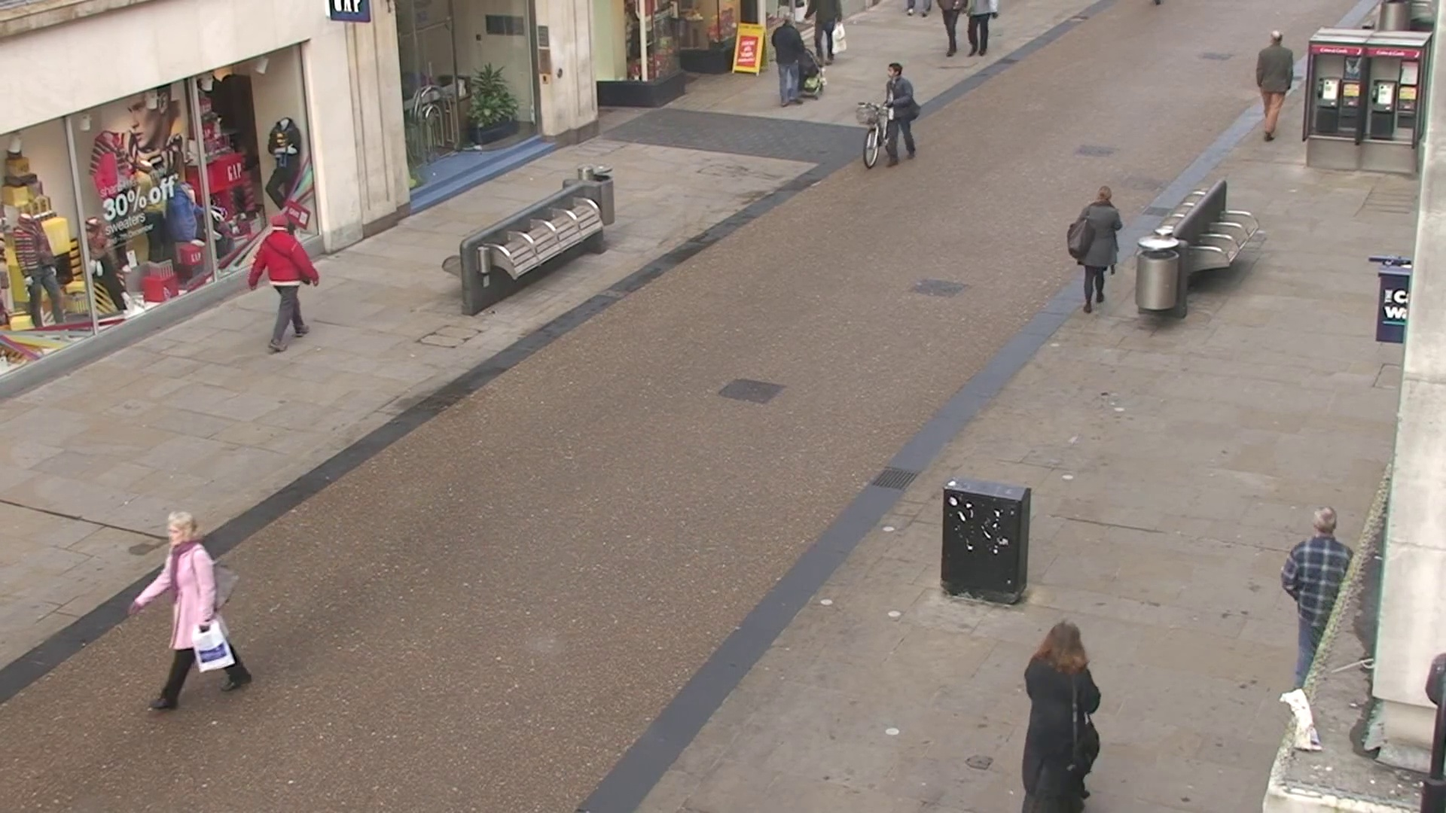person: (132, 510, 243, 713), (1278, 507, 1353, 751), (1020, 621, 1104, 813), (250, 205, 321, 352), (1066, 187, 1124, 313), (1255, 29, 1296, 143), (883, 60, 923, 159), (770, 5, 808, 105), (938, 0, 969, 59), (969, 0, 999, 55)
